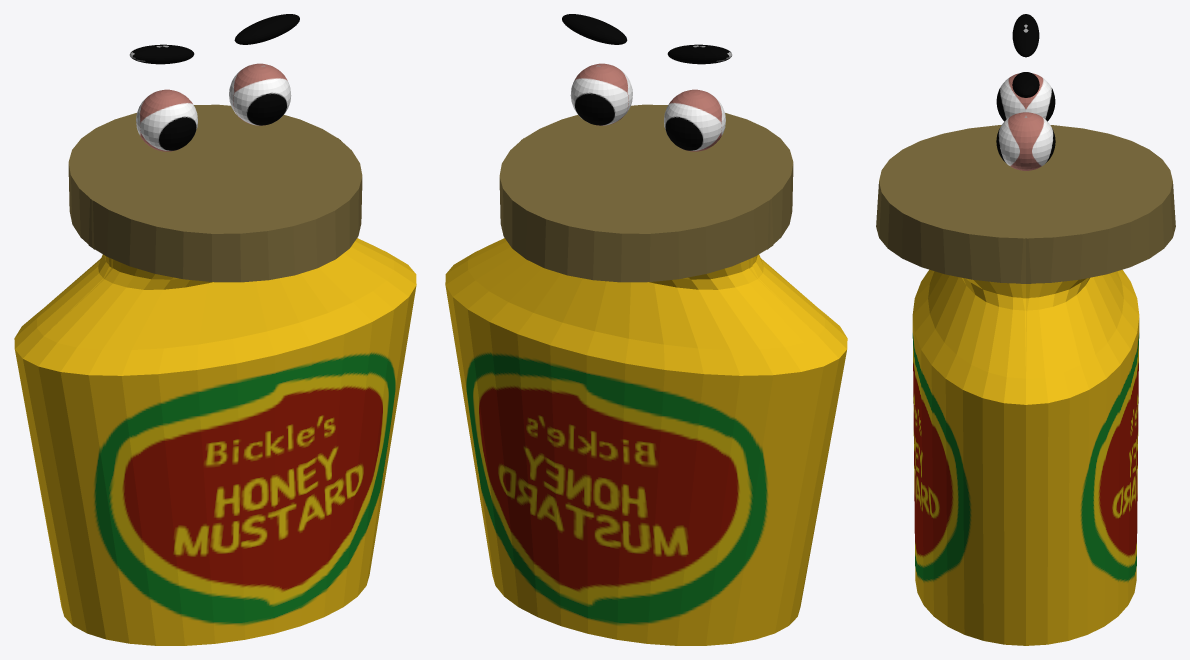
The model's file is moutarde.obj.
3 renders of one model, left to right at view 1: azimuth 30°, elevation 25°; view 2: azimuth 150°, elevation 25°; view 3: azimuth 270°, elevation 25°, orthographic. The views are drawn at different scales.
Visible parts, largest first — view 1: Cylinder.002; view 2: Cylinder.002; view 3: Cylinder.002.
Boxes of the visible parts, bbox=[...] form: Cylinder.002: bbox=[14, 14, 416, 645]; Cylinder.002: bbox=[445, 14, 847, 645]; Cylinder.002: bbox=[876, 14, 1175, 645].
Size of the model in its own units: 2 by 2.78 by 1.43.
